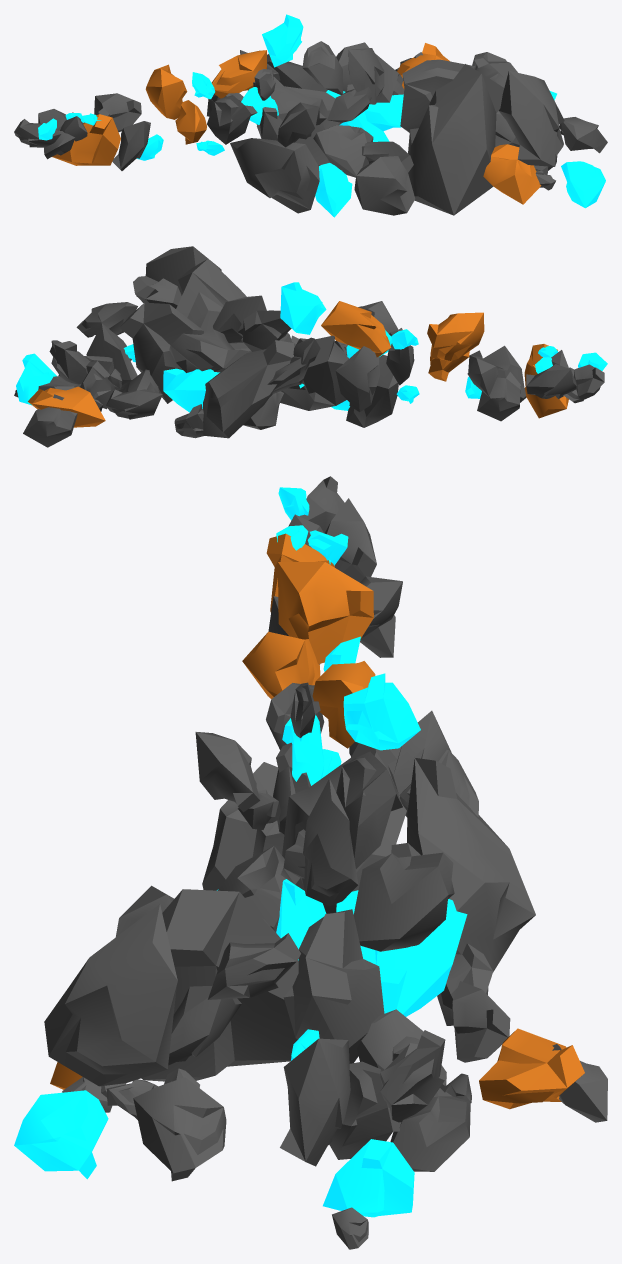
File: p_mesh_orecrusher_stonedebri_vacumed_blendshape_pose1.fbx
3 renders of one model, top to bottom at view 1: azimuth 30°, elevation 25°; view 2: azimuth 150°, elevation 25°; view 3: azimuth 270°, elevation 25°, orthographic. The views are drawn at different scales.
Visible parts, largest first — view 1: rocks_pose1; view 2: rocks_pose1; view 3: rocks_pose1.
Boxes of the visible parts, x1,y1,x2,y2 form: rocks_pose1: (14,14,607,217); rocks_pose1: (14,246,607,447); rocks_pose1: (14,476,607,1249).
Bounding box in the file's own units: 6.4 × 2.01 × 3.24.
